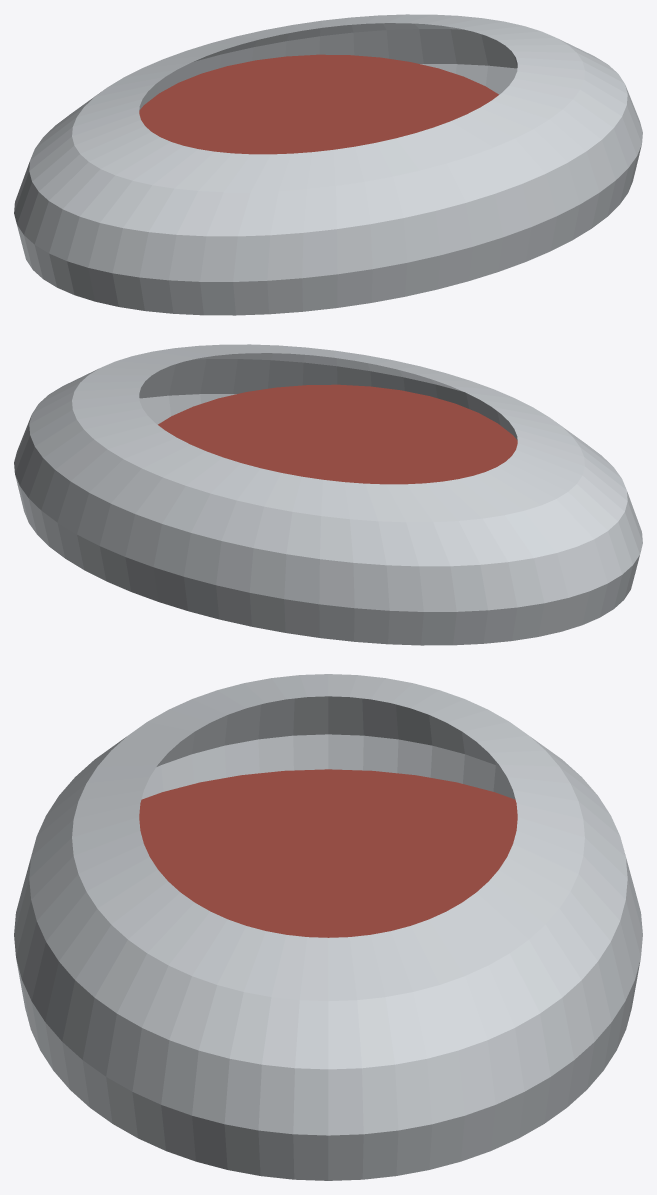
The model's file is birdnest.glb.
3 renders of one model, top to bottom at view 1: azimuth 30°, elevation 25°; view 2: azimuth 150°, elevation 25°; view 3: azimuth 270°, elevation 25°, orthographic. The views are drawn at different scales.
Parts seen in each view (by area): view 1: birdnest; view 2: birdnest; view 3: birdnest.
Part boxes in pixels (x1=…): birdnest: x1=14, y1=14, x2=642, y2=315; birdnest: x1=14, y1=344, x2=642, y2=645; birdnest: x1=14, y1=674, x2=642, y2=1180.
Bounding box in the file's own units: 336 × 66 × 222.
